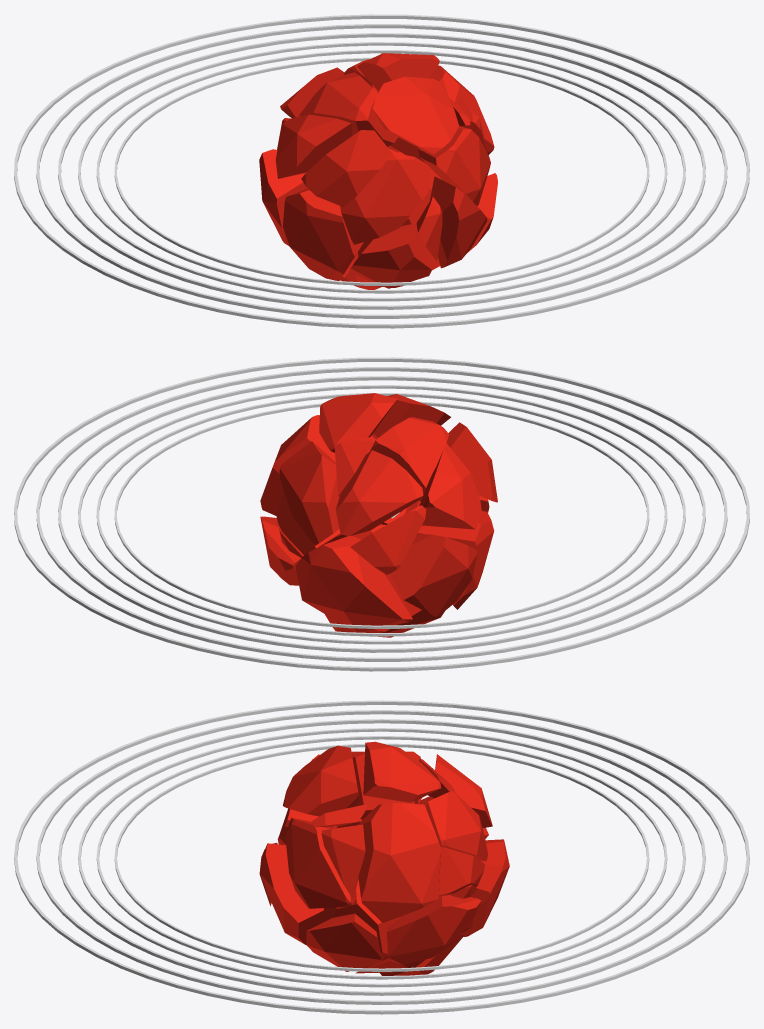
File: icoesphere-monster-ball.glb
The picture shows the model from 3 angles, top to bottom: view 1: azimuth 30°, elevation 25°; view 2: azimuth 150°, elevation 25°; view 3: azimuth 270°, elevation 25°; orthographic projection.
Parts seen in each view (by area): view 1: circle_6, circle_5, circle_4, circle_2, circle_3, Icosphere_cell.023, circle_1, Icosphere_cell.033, Icosphere_cell.003, Icosphere_cell.007, Icosphere_cell.002, Icosphere_cell.030 (+10 smaller); view 2: circle_6, circle_5, circle_4, Icosphere_cell.004, circle_2, circle_3, Icosphere_cell.025, circle_1, Icosphere_cell.008, Icosphere_cell.015, Icosphere_cell.030, Icosphere_cell.035 (+10 smaller); view 3: circle_6, Icosphere_cell.027, circle_5, circle_4, circle_2, circle_3, circle_1, Icosphere_cell.005, Icosphere_cell.022, Icosphere_cell.033, Icosphere_cell.011, Icosphere_cell.001 (+10 smaller).
Boxes of the visible parts, <box> form: circle_6: <box>14,14,749,328</box>; circle_5: <box>36,24,727,318</box>; circle_4: <box>58,33,705,309</box>; circle_2: <box>78,42,685,301</box>; circle_3: <box>96,50,667,293</box>; Icosphere_cell.023: <box>340,148,430,244</box>; circle_1: <box>114,57,649,285</box>; Icosphere_cell.033: <box>372,76,459,154</box>; Icosphere_cell.003: <box>283,188,363,280</box>; Icosphere_cell.007: <box>301,130,391,206</box>; Icosphere_cell.002: <box>349,223,431,288</box>; Icosphere_cell.030: <box>275,114,351,178</box>; circle_6: <box>14,357,749,671</box>; circle_5: <box>36,367,727,661</box>; circle_4: <box>58,376,705,652</box>; Icosphere_cell.004: <box>296,535,412,631</box>; circle_2: <box>78,385,685,644</box>; circle_3: <box>96,393,667,636</box>; Icosphere_cell.025: <box>390,534,477,616</box>; circle_1: <box>114,401,649,628</box>; Icosphere_cell.008: <box>335,450,423,536</box>; Icosphere_cell.015: <box>279,441,339,545</box>; Icosphere_cell.030: <box>419,443,481,529</box>; Icosphere_cell.035: <box>370,417,449,512</box>; circle_6: <box>14,700,749,1014</box>; Icosphere_cell.027: <box>357,803,440,922</box>; circle_5: <box>36,710,727,1004</box>; circle_4: <box>58,719,705,995</box>; circle_2: <box>78,728,685,987</box>; circle_3: <box>96,736,667,979</box>; circle_1: <box>114,743,649,971</box>; Icosphere_cell.005: <box>386,894,481,964</box>; Icosphere_cell.022: <box>285,817,356,908</box>; Icosphere_cell.033: <box>283,745,359,816</box>; Icosphere_cell.011: <box>363,741,441,802</box>; Icosphere_cell.001: <box>306,913,381,971</box>.
Bounding box in the file's own units: 6.76 × 2.31 × 6.76.
